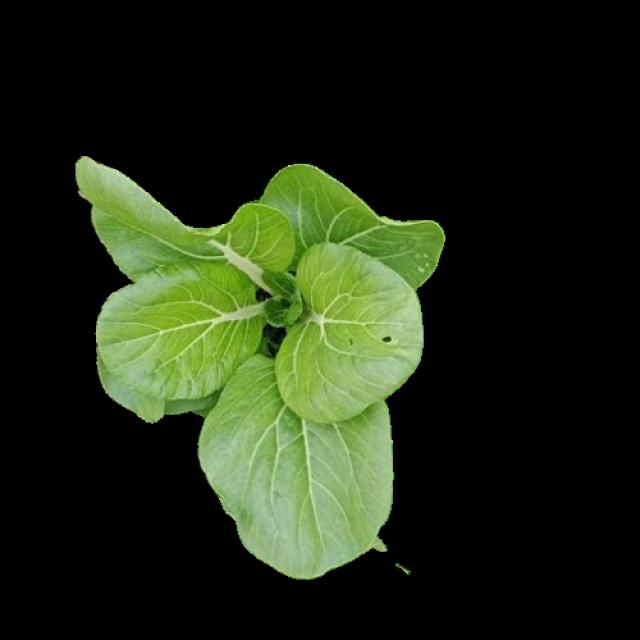mature: (70, 159, 447, 580)
unhealthy: (276, 240, 422, 422), (264, 164, 443, 289)
